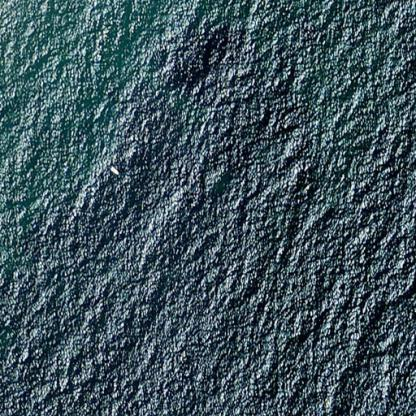ship: (108, 0, 116, 9)
